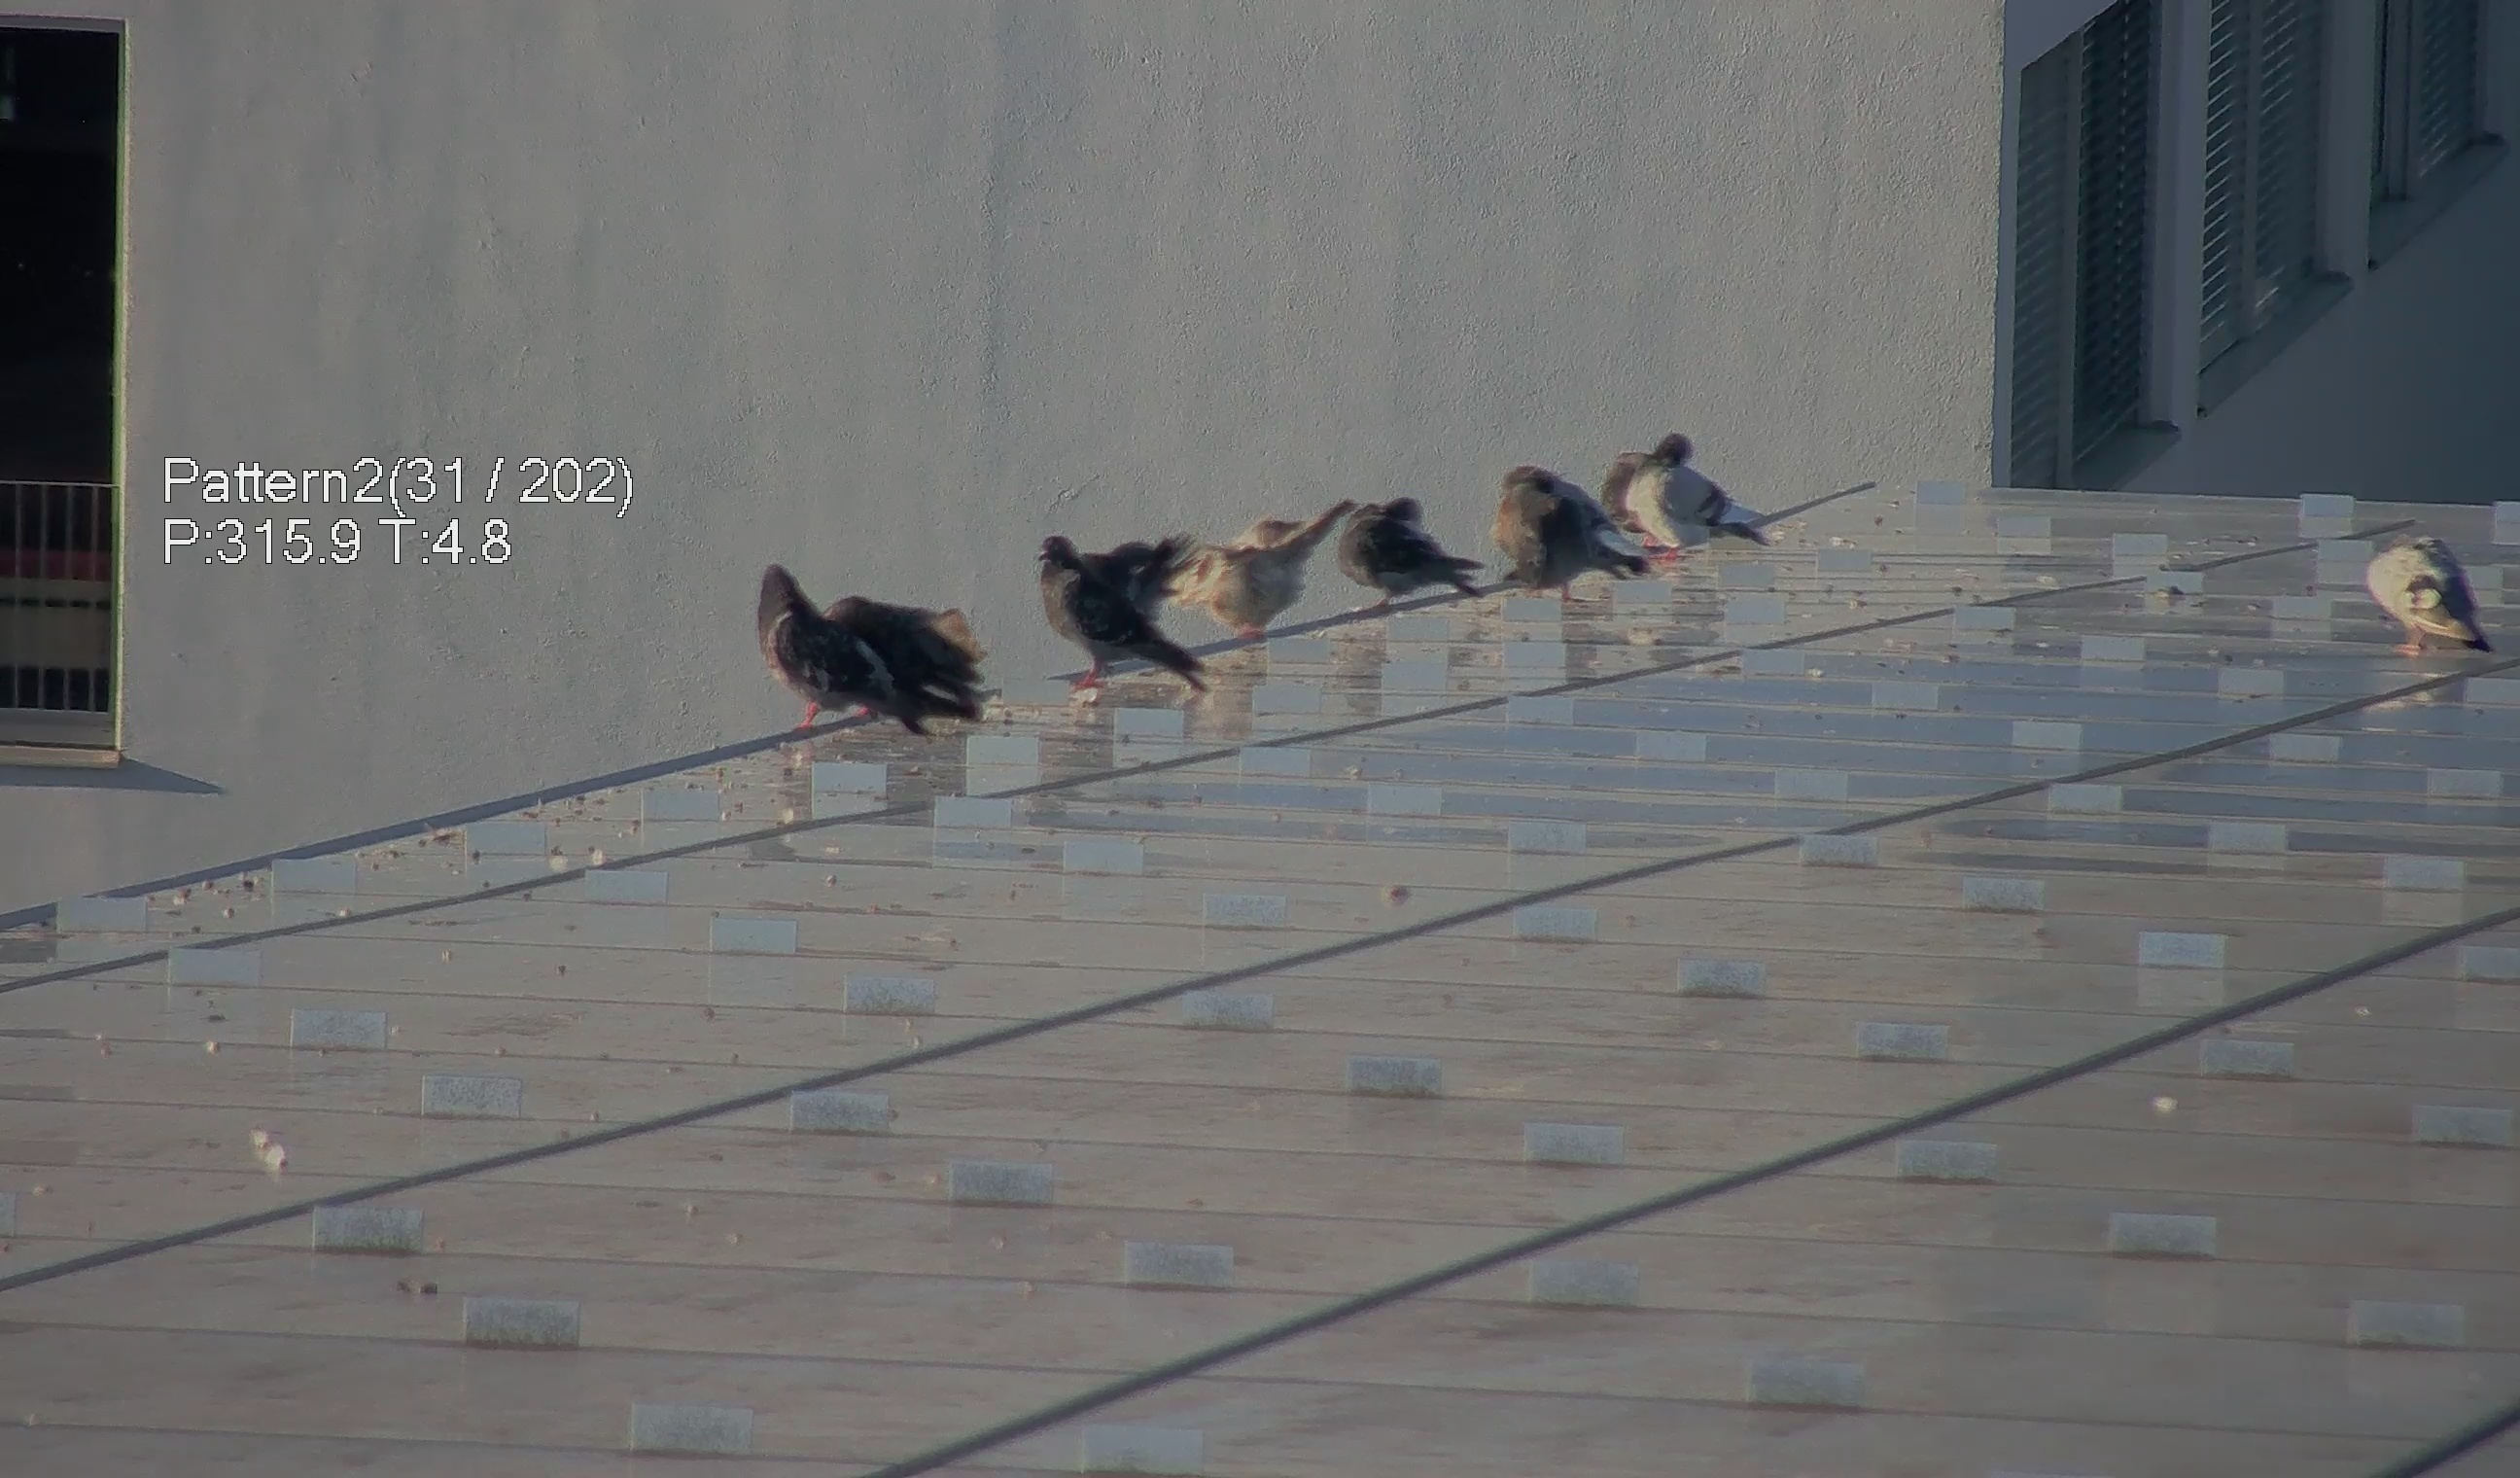Pigeon: (735, 549, 980, 753), (1025, 507, 1240, 709), (1175, 477, 1368, 667), (1600, 426, 1804, 561), (1477, 452, 1665, 593), (823, 586, 1008, 728), (2356, 528, 2492, 679), (1331, 484, 1488, 602)
